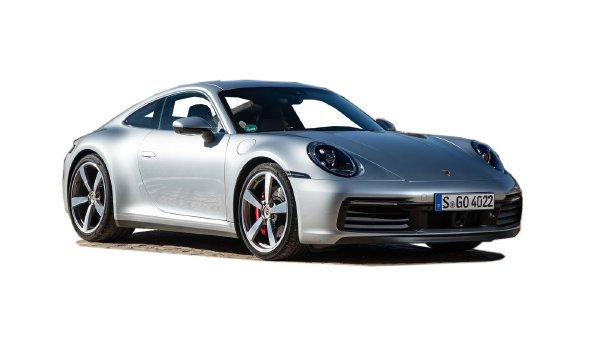car: (63, 75, 523, 254)
